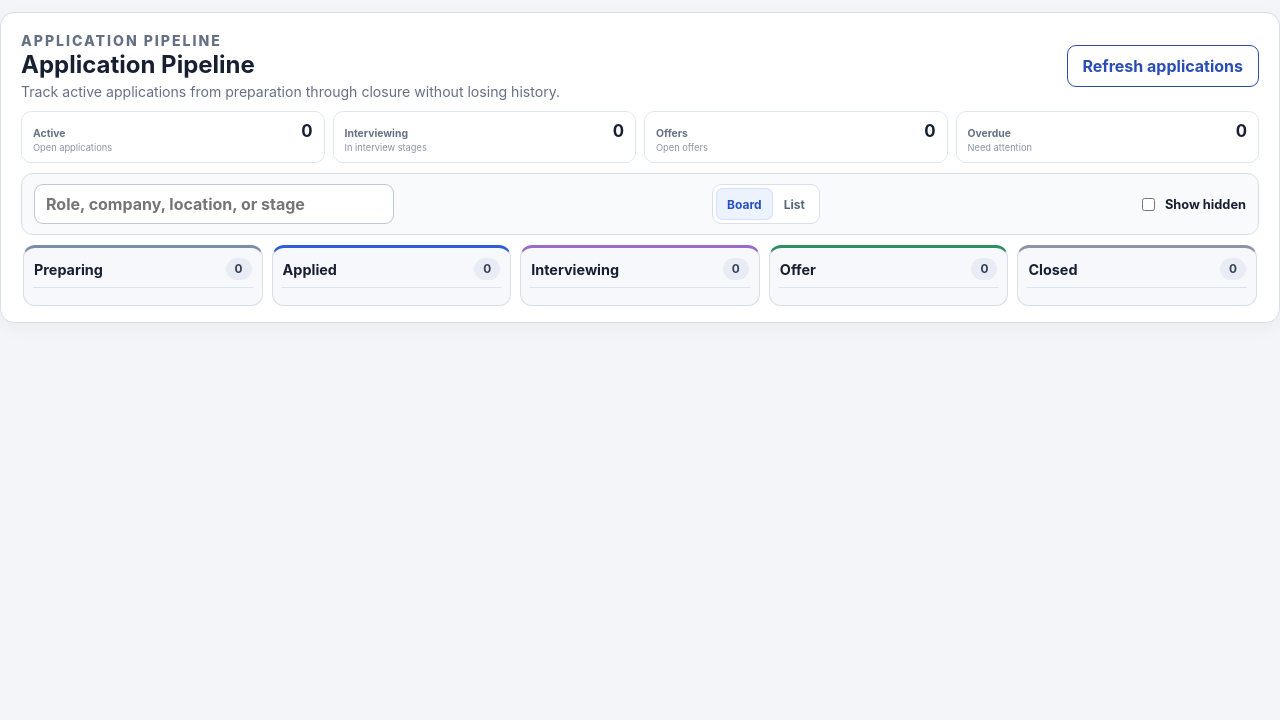
Test: ApplicationDashboard › keeps archived applications separate from Closed and makes their workspace read-only
Click the checkbox named "Show hidden applications": click(1148, 204) [1142, 198, 1155, 211]
(page scrolled)
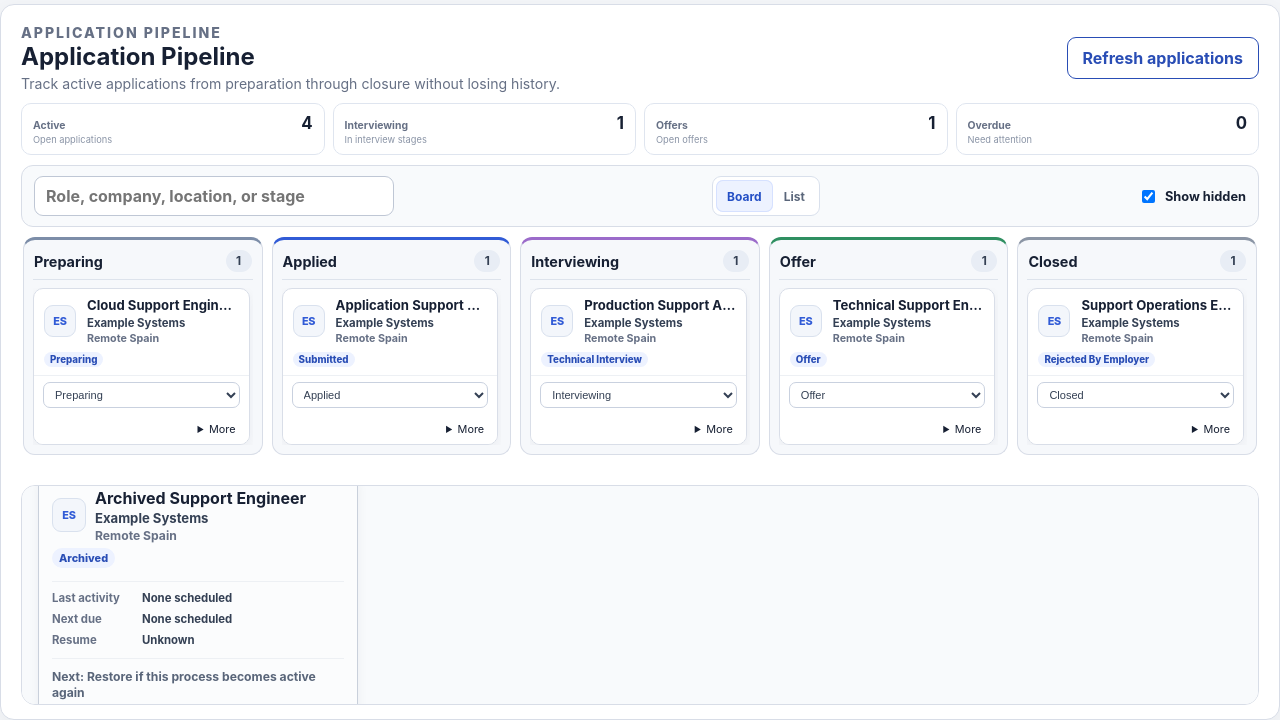
Check: the text named "Closed count" reads "1", box [1230, 254, 1236, 268]
Click the button with aria-label "Open Archived Support Engineer": click(198, 595) [39, 475, 357, 715]
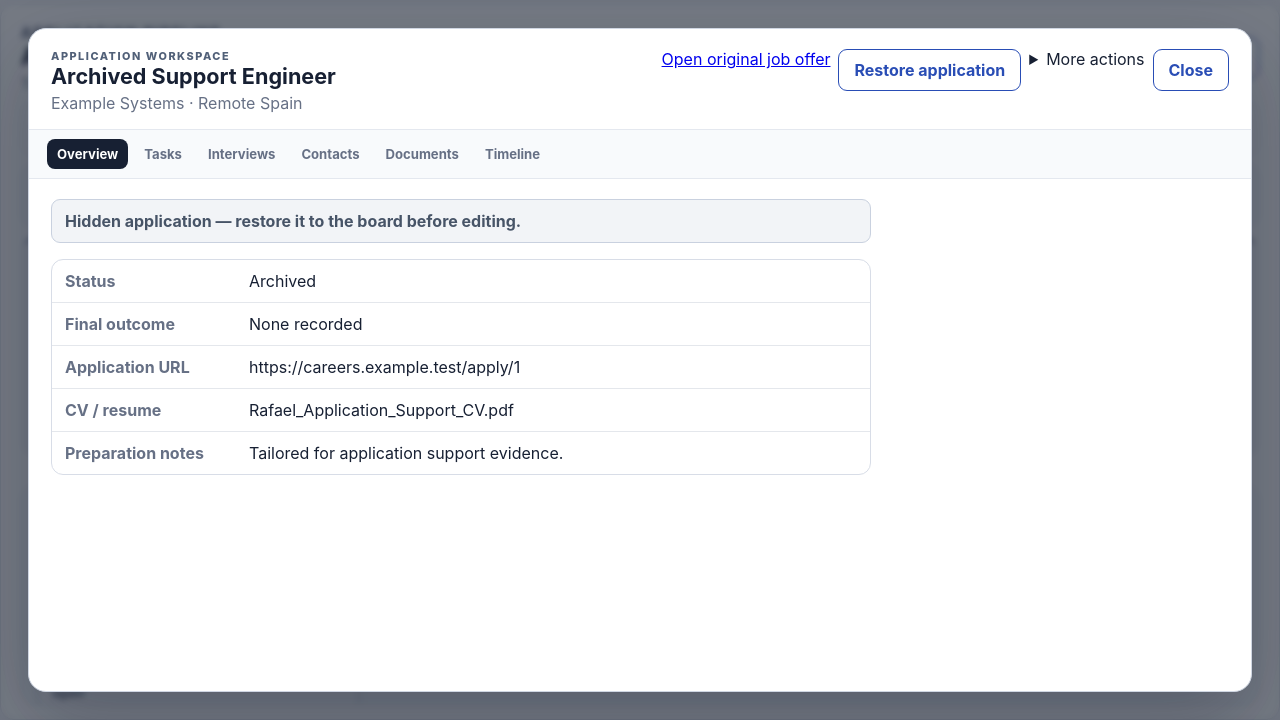
Check: the text "Hidden application — restore it to the board before editing." is shown, box [51, 199, 871, 243]
Check: the button "Restore application" is shown, box [838, 49, 1021, 91]
Click the tab "Tasks": click(163, 154) [134, 139, 192, 169]
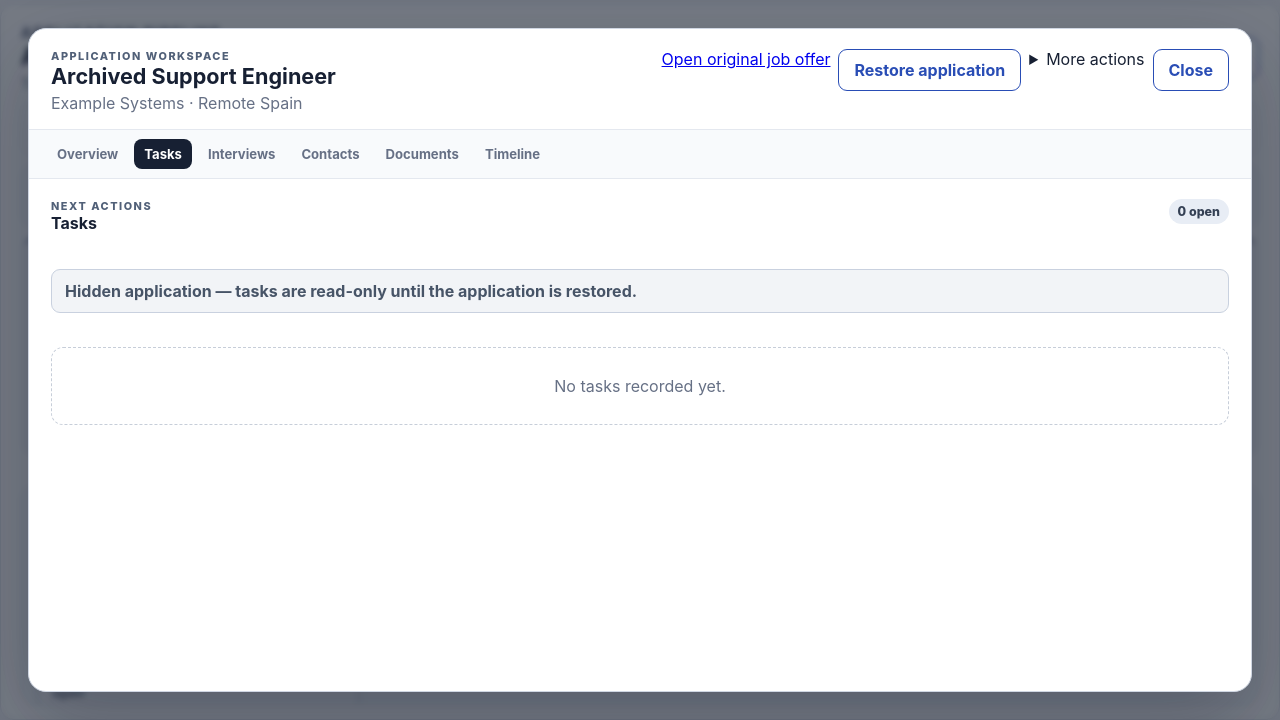
Check: the text "Hidden application — tasks are read-only until the application is restored." is shown, box [51, 269, 1229, 313]
